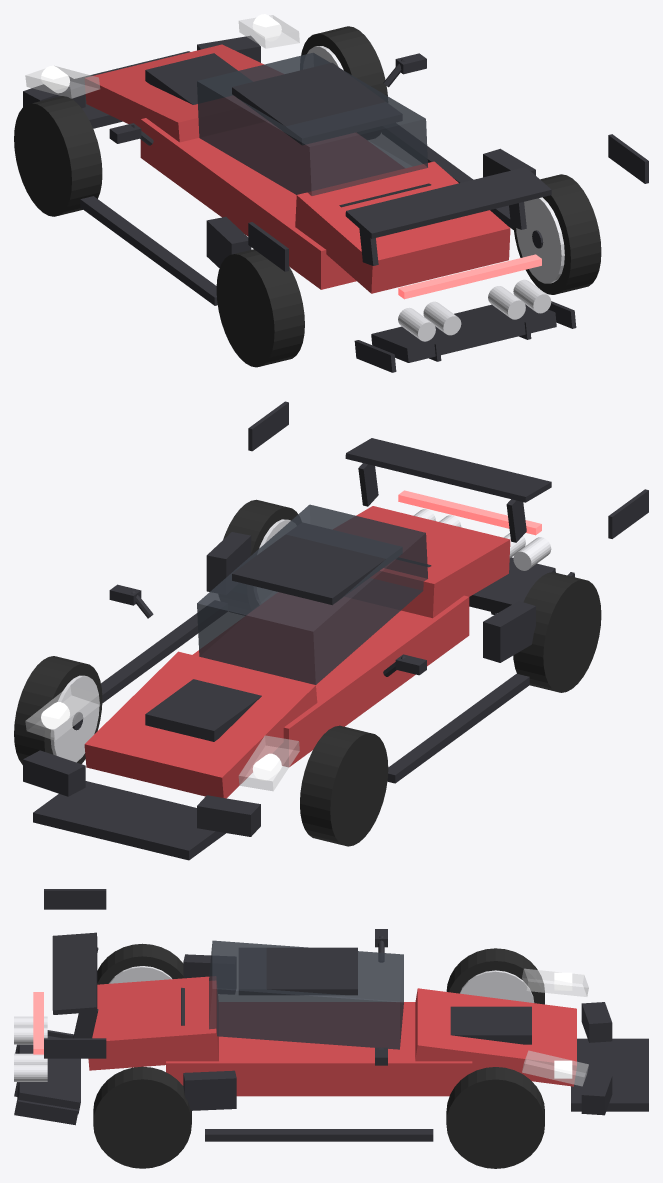
The model's file is sports_car.glb.
3 renders of one model, top to bottom at view 1: azimuth 30°, elevation 25°; view 2: azimuth 150°, elevation 25°; view 3: azimuth 270°, elevation 25°, orthographic. The views are drawn at different scales.
Parts seen in each view (by area): view 1: Cube.008, Cube.016, Cube, Cylinder.008, Cube.009, Cylinder.016, Cube.022, Cube.001, Cube.026, Cylinder.020, Cube.012, Cylinder.021 (+20 smaller); view 2: Cube.008, Cube.001, Cube, Cylinder.008, Cube.003, Cube.009, Cube.016, Cylinder.016, Cube.022, Cube.002, Cylinder.012, Cube.012 (+16 smaller); view 3: Cube.008, Cube, Cube.016, Cube.001, Cylinder.012, Cylinder.020, Cube.009, Cube.003, Cube.022, Cube.014, Cube.002, Cube.026 (+16 smaller).
Part boxes in pixels (x1,y1,x2,y2): Cube.008: (197,52,427,195); Cube.016: (295,161,510,293); Cube: (140,118,356,289); Cylinder.008: (14,96,102,216); Cube.009: (232,62,402,145); Cylinder.016: (216,249,304,367); Cube.022: (345,167,551,238); Cube.001: (84,44,264,142); Cube.026: (371,304,556,362); Cylinder.020: (513,174,601,294); Cube.012: (80,196,217,305); Cylinder.021: (516,197,564,283); Cube.008: (197,504,427,684); Cube.001: (84,651,317,798); Cube: (192,595,469,767); Cylinder.008: (300,725,388,846); Cube.003: (33,781,225,860); Cube.009: (232,522,402,605); Cube.016: (356,506,510,618); Cylinder.016: (513,572,601,692); Cube.022: (345,438,551,502); Cube.002: (145,679,261,741); Cylinder.012: (14,656,102,764); Cube.012: (387,673,529,783); Cube.008: (209,940,403,1049); Cube: (166,1002,472,1096); Cube.016: (88,976,218,1070); Cube.001: (415,988,576,1086); Cylinder.012: (446,1067,544,1168); Cylinder.020: (93,1066,191,1168); Cube.009: (239,947,357,995); Cube.003: (571,1038,648,1111); Cube.022: (52,932,97,1014); Cube.014: (205,1129,433,1141); Cube.002: (450,1006,531,1044); Cube.026: (17,1036,80,1114).
Bounding box in the file's own units: 1.38 × 0.59 × 2.45.
